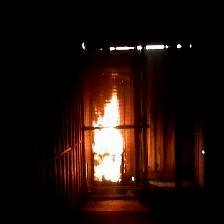fire: (88, 74, 126, 184)
